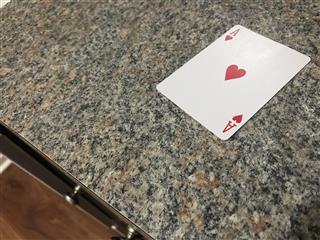AceOfHearts: (155, 23, 311, 141)
